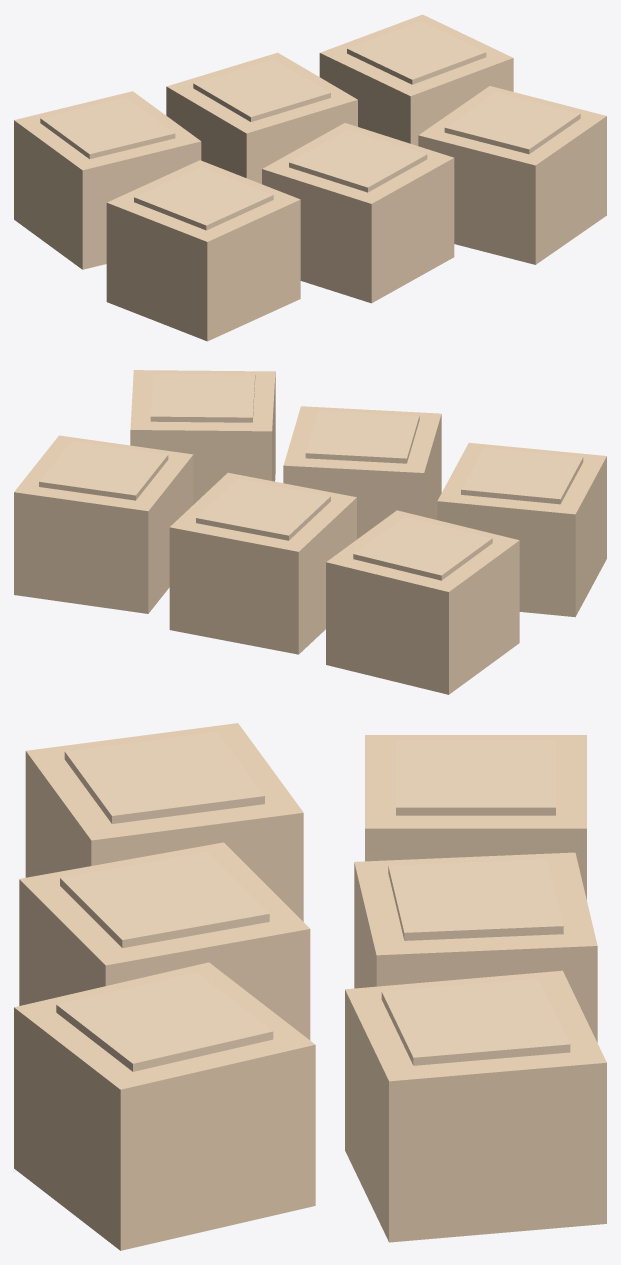
Rendered from tofu-chopped.glb.
3 renders of one model, top to bottom at view 1: azimuth 30°, elevation 25°; view 2: azimuth 150°, elevation 25°; view 3: azimuth 270°, elevation 25°, orthographic. The views are drawn at different scales.
Visible parts, largest first — view 1: tofu-chopped; view 2: tofu-chopped; view 3: tofu-chopped.
Part boxes in pixels (x1=…): tofu-chopped: x1=14, y1=14, x2=606, y2=341; tofu-chopped: x1=14, y1=370, x2=606, y2=694; tofu-chopped: x1=14, y1=723, x2=606, y2=1250.
Size of the model in its own units: 0.1952 by 0.042 by 0.1334.
Materials: 1 (1 with a texture image).
